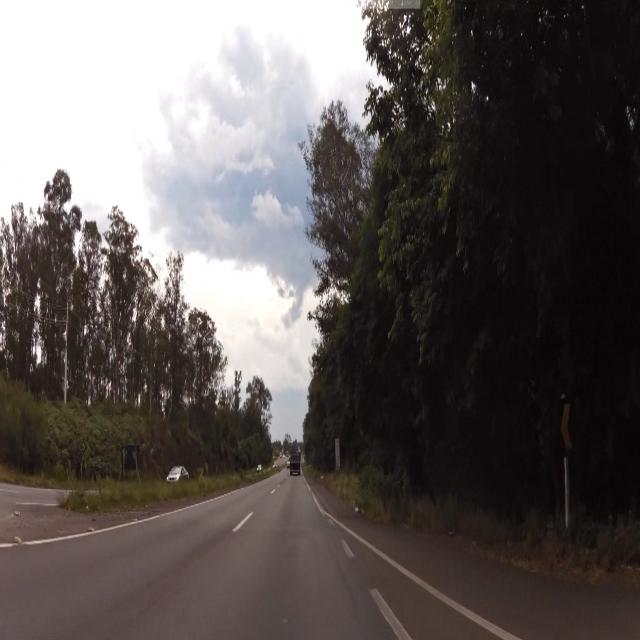Del: (559, 397, 572, 455)
